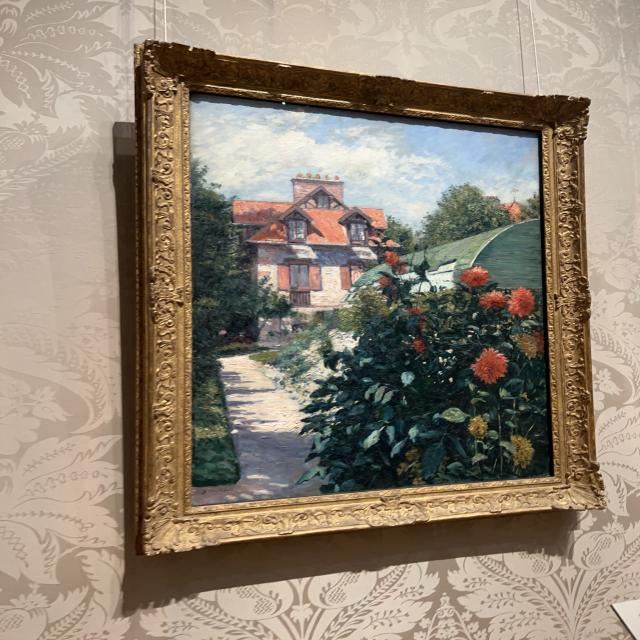summer: (191, 94, 553, 506)
